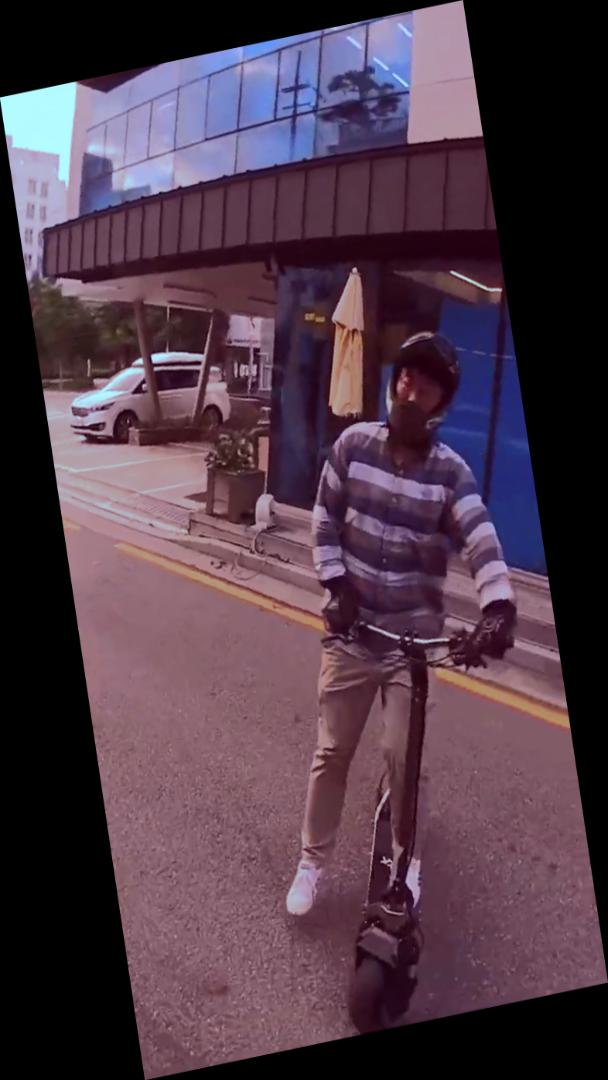helmet: (207, 316, 572, 1046)
